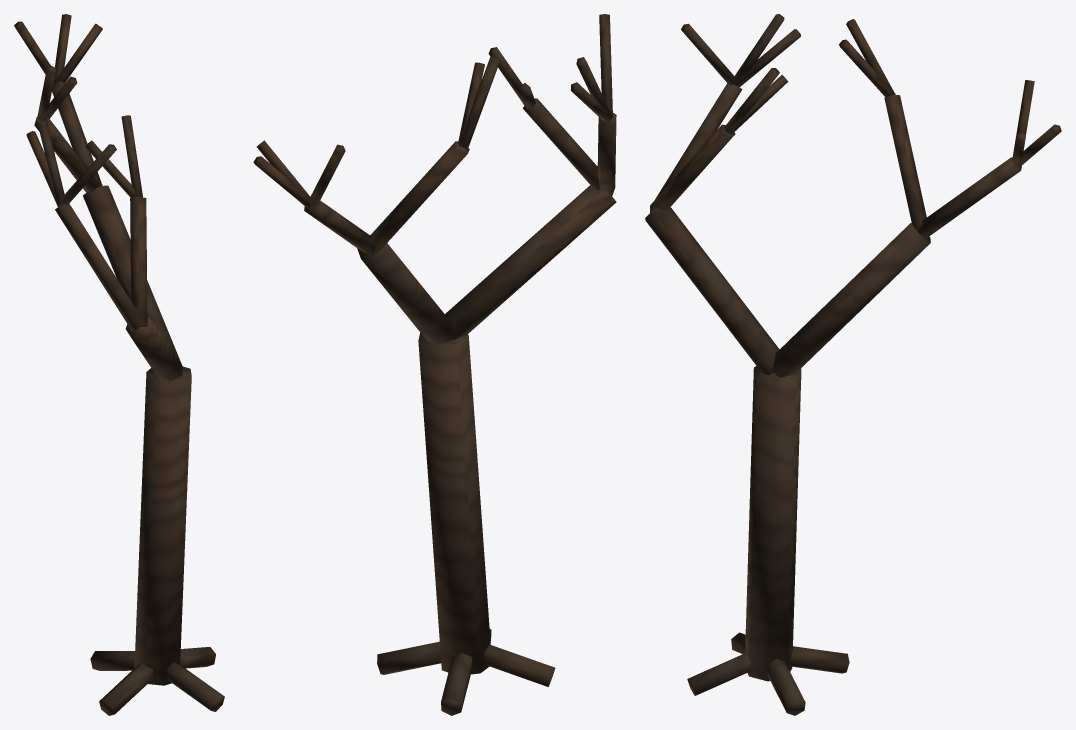
File: NT01_dead_tree_v1.glb
3 renders of one model, left to right at view 1: azimuth 30°, elevation 25°; view 2: azimuth 150°, elevation 25°; view 3: azimuth 270°, elevation 25°, orthographic. The views are drawn at different scales.
Visible parts, largest first — view 1: NT01_dead_tree_v1; view 2: NT01_dead_tree_v1; view 3: NT01_dead_tree_v1.
Part boxes in pixels (bbox=[...]): NT01_dead_tree_v1: bbox=[14, 14, 224, 715]; NT01_dead_tree_v1: bbox=[253, 14, 616, 715]; NT01_dead_tree_v1: bbox=[645, 14, 1061, 715].
Bounding box in the file's own units: 1.91 × 6 × 3.58.
1 material, 1 textured.
